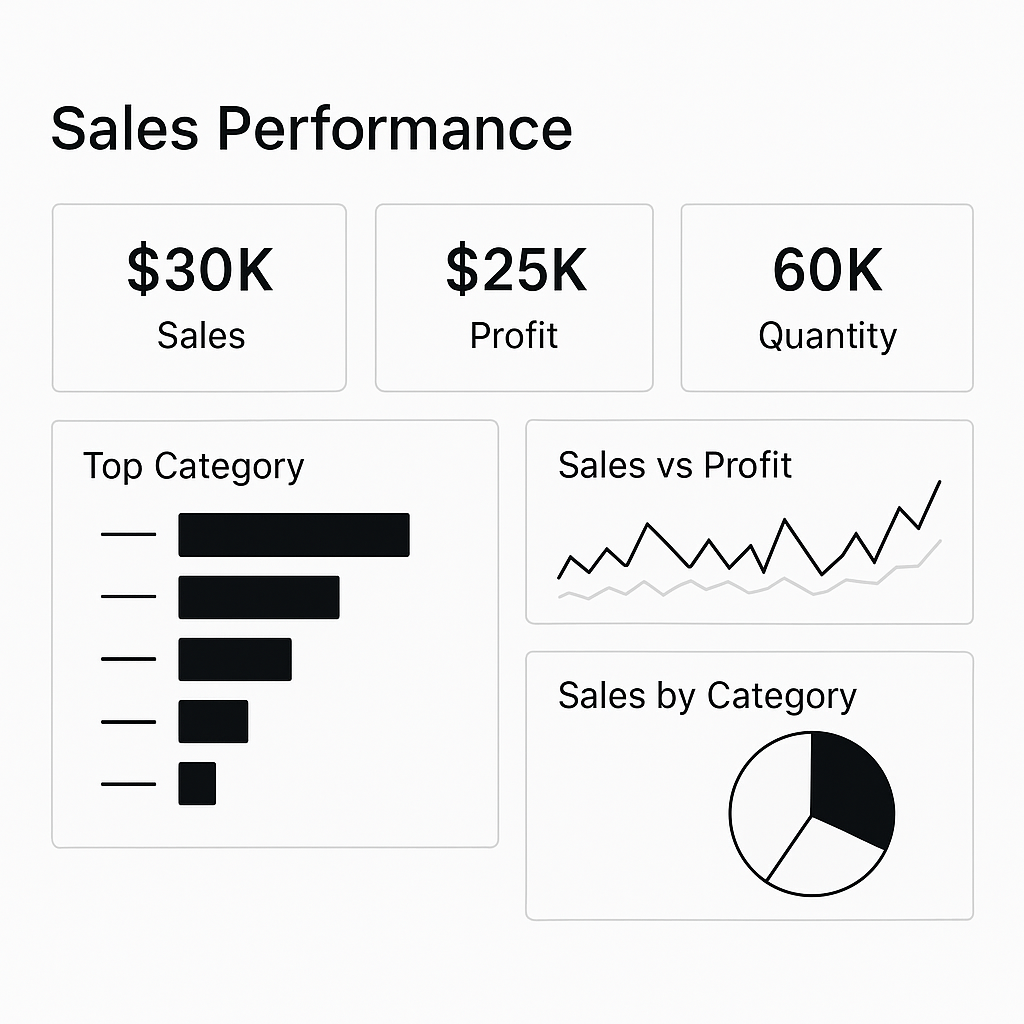

What the dashboard file says about the page in this screenshot:
{"tool":"tableau","page":{"name":"Sales Dashboard","canvas":[1200,800],"ordinal":1},"visuals":[{"type":"image","param":"Image/Icon - Logo.png","box":[0,0,73,59]},{"type":"text","box":[73,0,820,59]},{"type":"dashboard-object","box":[890,6,107,70]},{"type":"dashboard-object","box":[997,6,107,70]},{"type":"blank","box":[888,10,300,86]},{"type":"worksheet","title":"Legend KPI","mark":"Automatic","box":[0,59,1200,29]},{"type":"worksheet","title":"KPI Sales","mark":"Automatic","rows":["Calculation_721701895347843083"],"cols":["Order Date"],"box":[0,88,400,284]},{"type":"worksheet","title":"KPI Profit","mark":"Automatic","rows":["Min/Max Sales (copy)_237846410425847814"],"cols":["Order Date"],"box":[400,88,400,284]},{"type":"worksheet","title":"KPI Quantity","mark":"Automatic","rows":["Min/Max Sales (copy) (copy)_237846410425856007"],"cols":["Order Date"],"box":[800,88,400,284]},{"type":"text","box":[888,96,300,34]},{"type":"parameter","param":"[Parameters].[Parameter 1]","box":[888,130,300,52]},{"type":"text","box":[888,182,300,30]},{"type":"filter","title":"KPI Sales","param":"[federated.1kpxa041aiai2y1cl4pui1t4eju9].[none:Category:nk]","box":[888,212,300,52]},{"type":"filter","title":"KPI Sales","param":"[federated.1kpxa041aiai2y1cl4pui1t4eju9].[none:Sub-Category:nk]","box":[888,264,300,52]},{"type":"blank","box":[888,316,300,60]},{"type":"text","box":[888,376,300,30]},{"type":"text","box":[17,389,566,34]},{"type":"text","box":[617,389,566,34]},{"type":"filter","title":"KPI Sales","param":"[federated.1kpxa041aiai2y1cl4pui1t4eju9].[none:Region:nk]","box":[888,406,300,52]},{"type":"worksheet","title":"Legend Subcategory","mark":"Automatic","box":[17,423,374,32]},{"type":"text","box":[391,423,192,32]},{"type":"text","box":[617,423,566,25]},{"type":"worksheet","title":"Weekly Trends","mark":"Automatic","rows":["Calculation_721701895334993921","CY Sales (copy)_237846410424180736"],"cols":["Order Date"],"box":[617,448,566,335]},{"type":"worksheet","title":"Subcategory Comparison","mark":"Bar","rows":["Sub-Category","Calculation_2435040078806671369"],"cols":["CY Sales (copy)_721701895335804930","Calculation_721701895334993921","CY Sales (copy)_237846410424180736"],"box":[17,455,566,327.9]},{"type":"filter","title":"KPI Sales","param":"[federated.1kpxa041aiai2y1cl4pui1t4eju9].[none:State:nk]","box":[888,458,300,52]},{"type":"filter","title":"KPI Sales","param":"[federated.1kpxa041aiai2y1cl4pui1t4eju9].[none:City:nk]","box":[888,510,300,52]}]}

Visuals, with their boxes on the page's 1200x800 design canvas (x1, y1, x2, y2). These are canvas units, not pixel positions in the 1024x1024 screenshot, which may show the page scaled, cropped or inside an application window:
image: region(0, 0, 73, 59)
text: region(73, 0, 893, 59)
dashboard-object: region(890, 6, 997, 76)
dashboard-object: region(997, 6, 1104, 76)
blank: region(888, 10, 1188, 96)
"Legend KPI" worksheet: region(0, 59, 1200, 88)
"KPI Sales" worksheet: region(0, 88, 400, 372)
"KPI Profit" worksheet: region(400, 88, 800, 372)
"KPI Quantity" worksheet: region(800, 88, 1200, 372)
text: region(888, 96, 1188, 130)
parameter: region(888, 130, 1188, 182)
text: region(888, 182, 1188, 212)
"KPI Sales" filter: region(888, 212, 1188, 264)
"KPI Sales" filter: region(888, 264, 1188, 316)
blank: region(888, 316, 1188, 376)
text: region(888, 376, 1188, 406)
text: region(17, 389, 583, 423)
text: region(617, 389, 1183, 423)
"KPI Sales" filter: region(888, 406, 1188, 458)
"Legend Subcategory" worksheet: region(17, 423, 391, 455)
text: region(391, 423, 583, 455)
text: region(617, 423, 1183, 448)
"Weekly Trends" worksheet: region(617, 448, 1183, 783)
"Subcategory Comparison" worksheet (Bar marks): region(17, 455, 583, 783)
"KPI Sales" filter: region(888, 458, 1188, 510)
"KPI Sales" filter: region(888, 510, 1188, 562)
